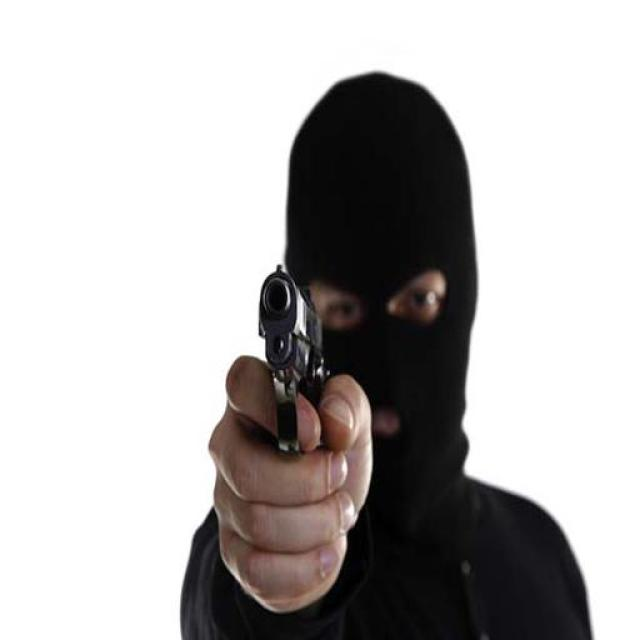pistol: (255, 265, 332, 455)
